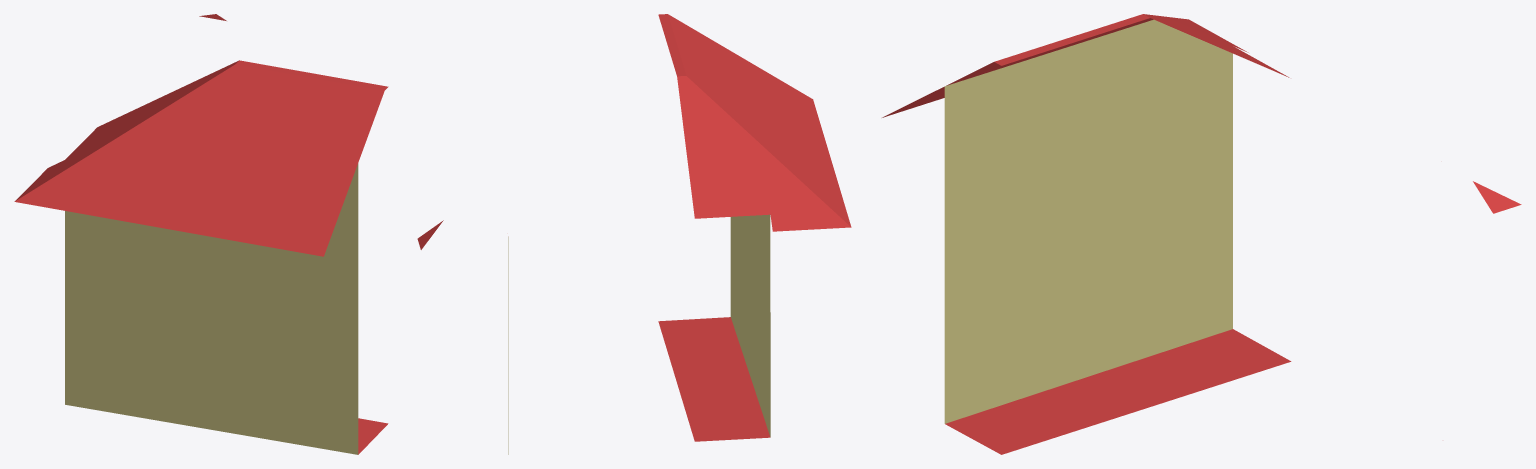
3 views of the same model, side by side, from view 1: azimuth 30°, elevation 25°; view 2: azimuth 150°, elevation 25°; view 3: azimuth 270°, elevation 25° (orthographic). The views are drawn at different scales.
Size of the model in its own units: 9.82 by 13.7 by 9.16.
